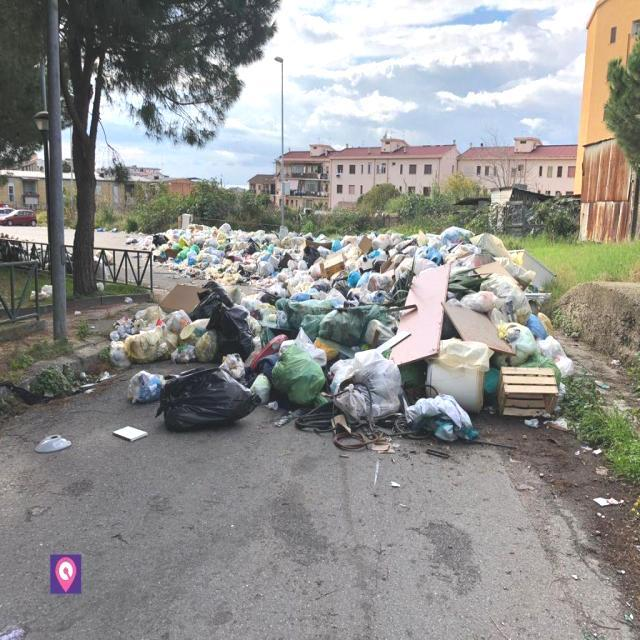high trash: (110, 225, 574, 452)
